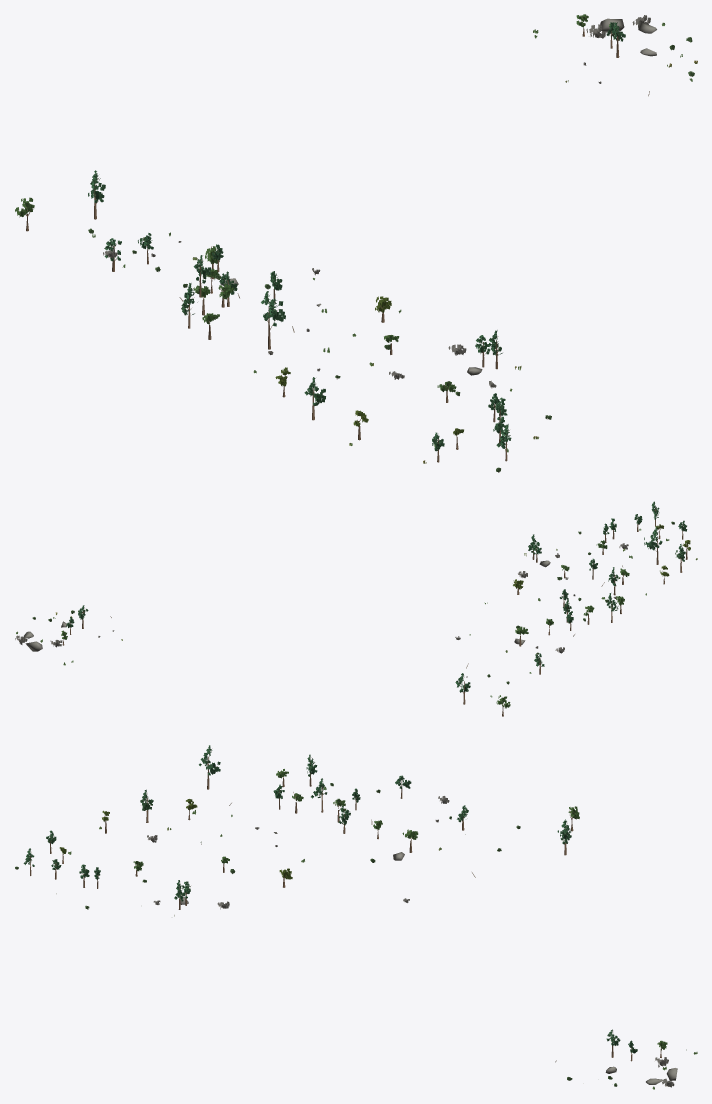
The model's file is arch_land_scatter_c20_22.glb.
3 renders of one model, top to bottom at view 1: azimuth 30°, elevation 25°; view 2: azimuth 150°, elevation 25°; view 3: azimuth 270°, elevation 25°, orthographic. The views are drawn at different scales.
Parts seen in each view (by area): view 1: arch_land_scatter_c20_22; view 2: arch_land_scatter_c20_22; view 3: arch_land_scatter_c20_22.
Boxes of the visible parts, box(x1,y1,x2,y2) form: arch_land_scatter_c20_22: box(15, 14, 697, 472); arch_land_scatter_c20_22: box(15, 501, 697, 716); arch_land_scatter_c20_22: box(15, 745, 697, 1089).
Size of the model in its own units: 202 by 34 by 223.
